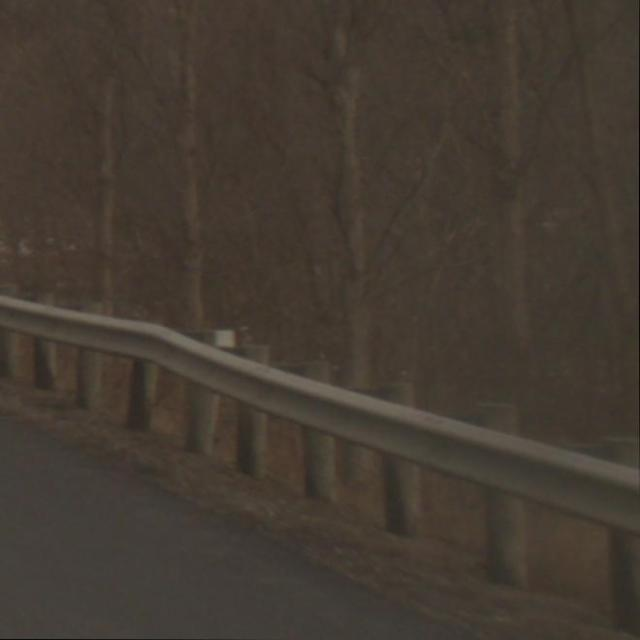Guard rail: (0, 272, 640, 640)
